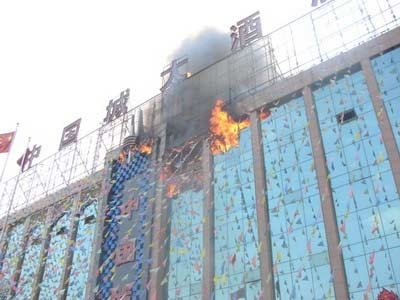fire: (207, 98, 259, 152), (117, 140, 154, 164)
